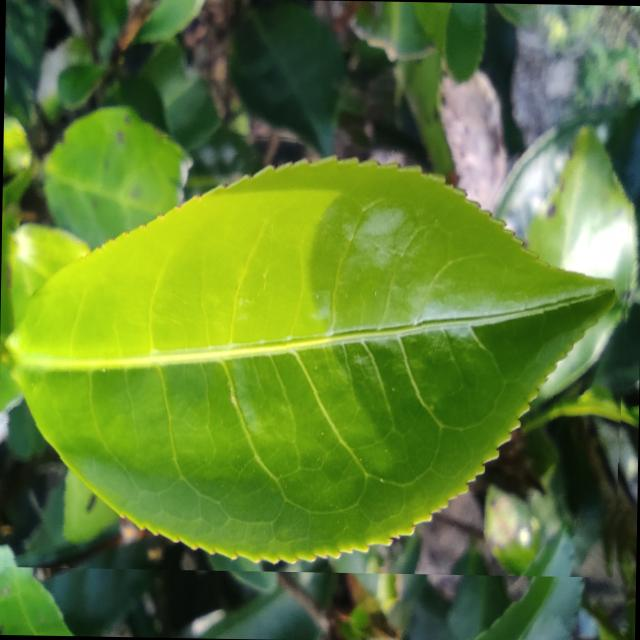Category B(2-4 days): (0, 131, 633, 578)
